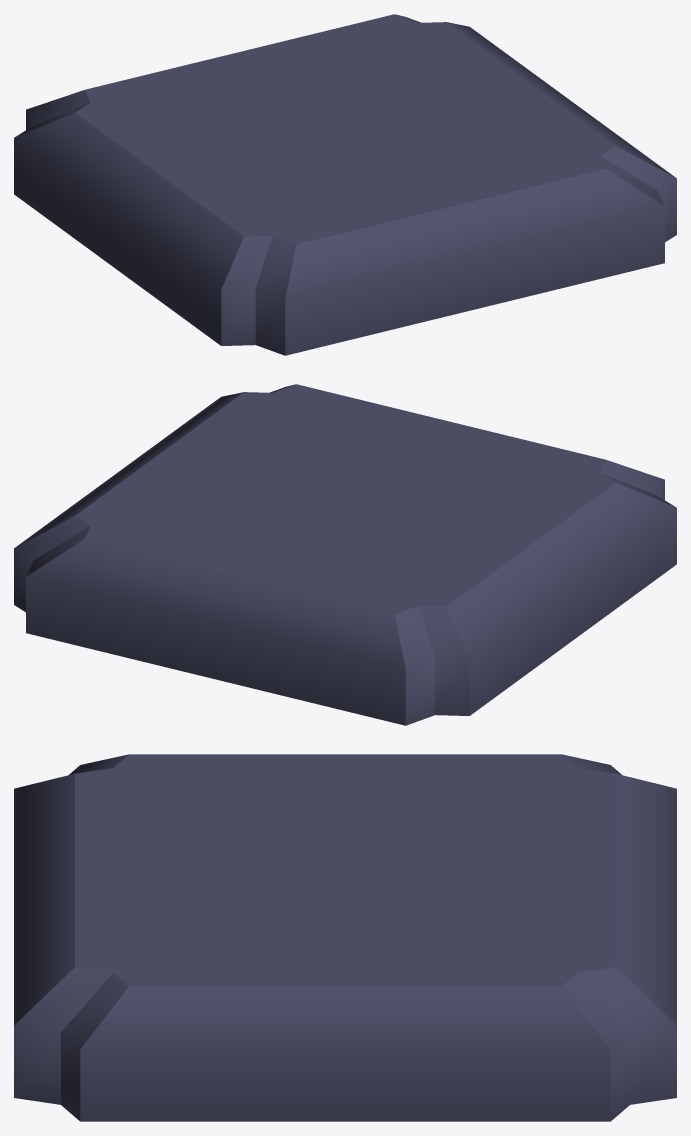
Rendered from Env_Bottom_Roof_01.fbx.
3 renders of one model, top to bottom at view 1: azimuth 30°, elevation 25°; view 2: azimuth 150°, elevation 25°; view 3: azimuth 270°, elevation 25°, orthographic. The views are drawn at different scales.
Visible parts, largest first — view 1: Env_Bottom_Roof_01; view 2: Env_Bottom_Roof_01; view 3: Env_Bottom_Roof_01.
Part boxes in pixels (<box>): Env_Bottom_Roof_01: <box>14,14,676,355</box>; Env_Bottom_Roof_01: <box>14,384,676,725</box>; Env_Bottom_Roof_01: <box>14,754,676,1121</box>.
Size of the model in its own units: 0.8844 by 0.1583 by 0.8713.
